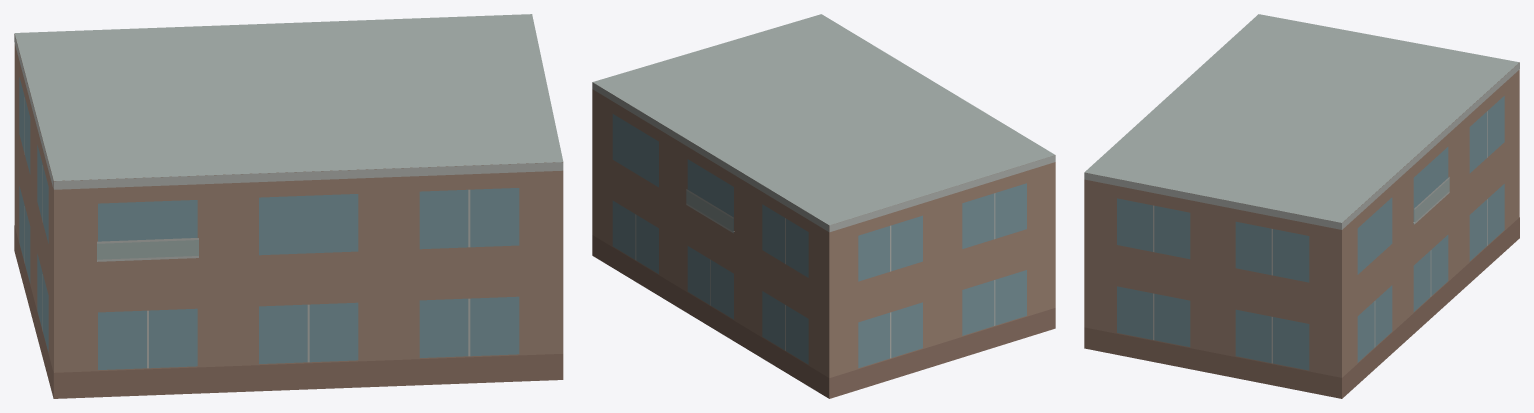
The model's file is survey-upis-32680255.glb.
3 views of the same model, side by side, from view 1: azimuth 30°, elevation 25°; view 2: azimuth 150°, elevation 25°; view 3: azimuth 270°, elevation 25° (orthographic). The views are drawn at different scales.
Visible parts, largest first — view 1: survey-upis-32680255.tmp; view 2: survey-upis-32680255.tmp; view 3: survey-upis-32680255.tmp.
Boxes of the visible parts, <box> form: survey-upis-32680255.tmp: <box>14,14,563,398</box>; survey-upis-32680255.tmp: <box>592,14,1055,398</box>; survey-upis-32680255.tmp: <box>1084,14,1519,398</box>.
Bounding box in the file's own units: 15.55 × 6.1 × 13.69.
